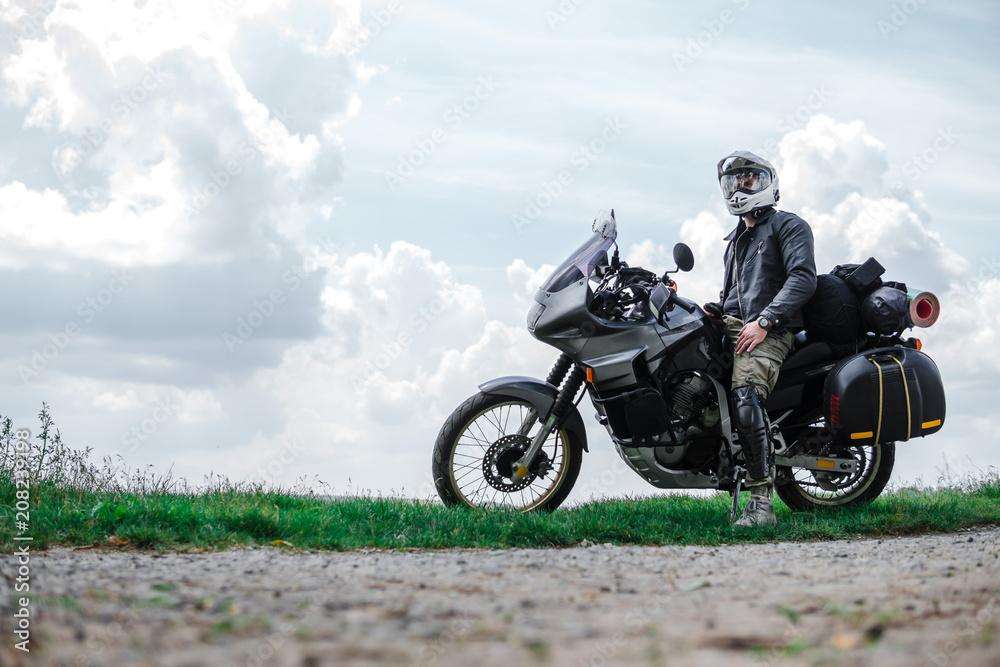helmet: (717, 149, 781, 217)
